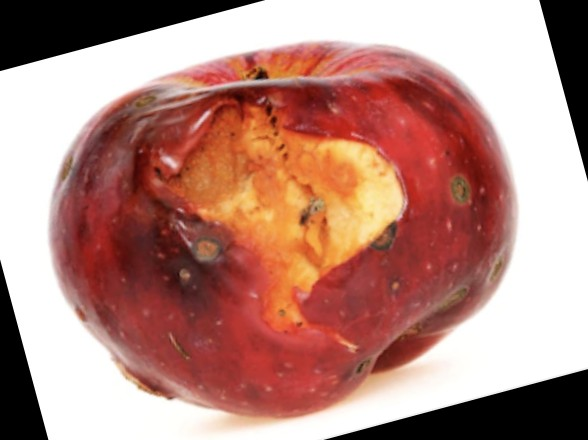rotten_apple: (49, 40, 517, 419)
